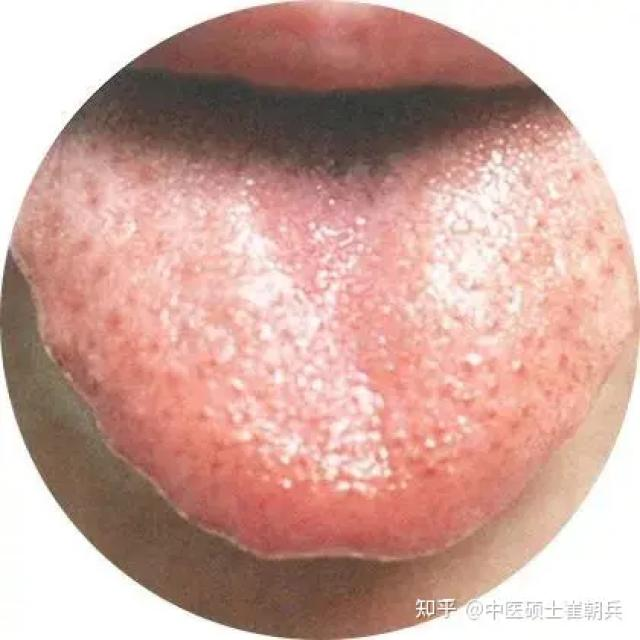tongue: (24, 86, 630, 564)
